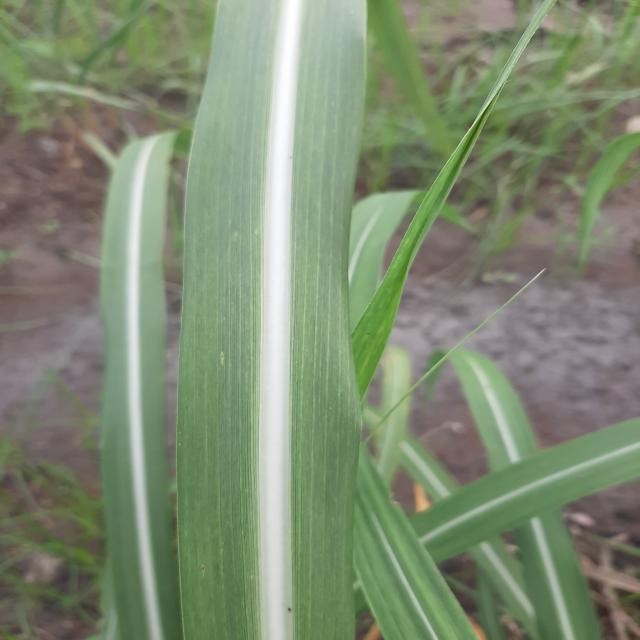Sugarcane: (174, 0, 369, 639)
